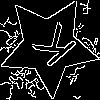K: (24, 21, 79, 76)
